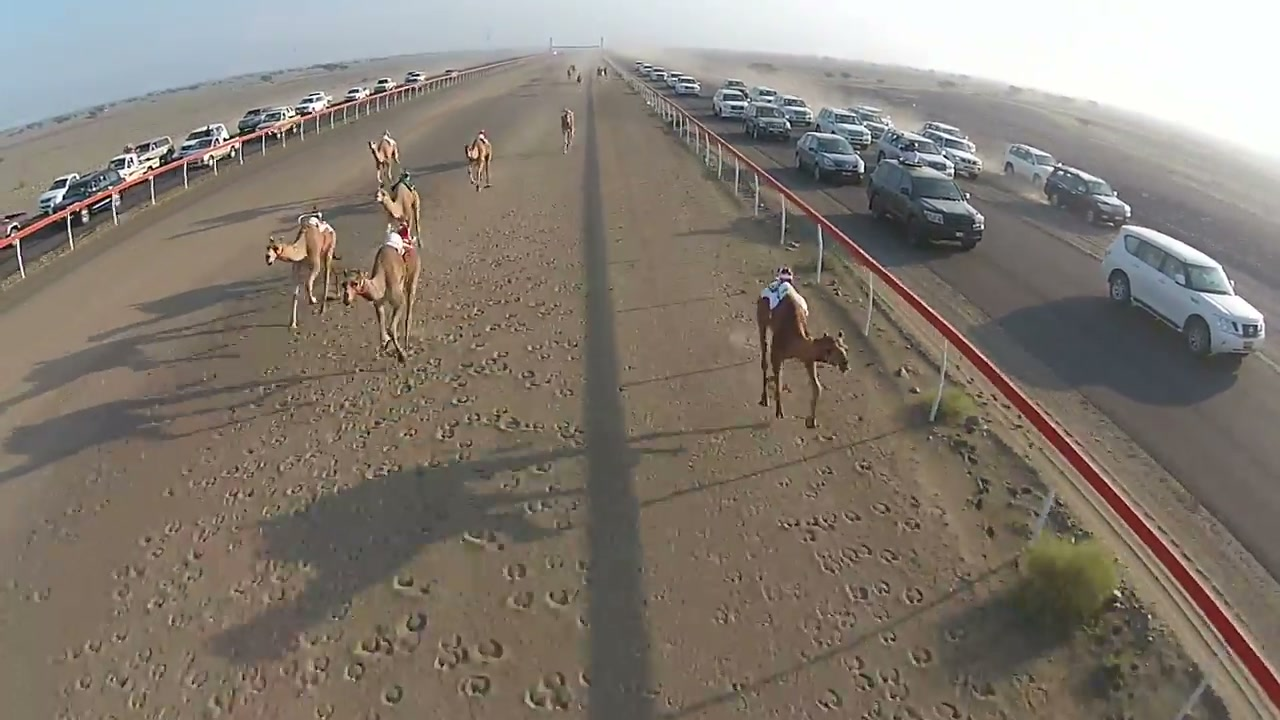animal_foot_print: (166, 214, 607, 719), (50, 625, 265, 719), (778, 511, 901, 575), (435, 635, 506, 670), (800, 606, 856, 649), (780, 511, 841, 543), (468, 407, 545, 432), (524, 672, 573, 710), (813, 549, 857, 576), (133, 649, 168, 682), (435, 636, 470, 669), (296, 654, 331, 687), (352, 629, 393, 657), (879, 668, 910, 703), (455, 325, 496, 350), (552, 498, 583, 531), (205, 687, 236, 717), (1019, 681, 1050, 710), (462, 529, 504, 550), (392, 573, 429, 596), (458, 674, 492, 697), (472, 638, 504, 662), (827, 608, 857, 633), (493, 414, 531, 432), (805, 511, 839, 531), (362, 461, 399, 479), (815, 688, 843, 710), (544, 589, 576, 608), (64, 672, 94, 692), (840, 544, 872, 562), (712, 604, 740, 624), (970, 679, 998, 699), (933, 701, 964, 719), (555, 421, 583, 440), (126, 689, 149, 711), (562, 427, 585, 449), (523, 498, 554, 514), (507, 591, 533, 610), (876, 667, 903, 685), (382, 684, 405, 705), (909, 646, 933, 666), (403, 612, 427, 632), (853, 672, 878, 691), (185, 669, 208, 689), (802, 479, 825, 499), (845, 584, 870, 602), (434, 652, 460, 669), (839, 655, 865, 672), (435, 421, 457, 441), (344, 661, 365, 681), (504, 562, 526, 581), (454, 439, 472, 462), (943, 625, 967, 642), (526, 345, 553, 360), (902, 587, 924, 605), (519, 371, 540, 389), (501, 472, 523, 489), (432, 332, 463, 344), (314, 702, 335, 719), (878, 548, 900, 564), (449, 394, 475, 407), (872, 579, 891, 596), (870, 605, 889, 622), (798, 527, 818, 543), (899, 518, 921, 532), (164, 519, 182, 536), (544, 554, 564, 569), (724, 570, 745, 584), (391, 347, 408, 364), (777, 516, 801, 528), (530, 461, 551, 474), (650, 587, 669, 601), (815, 431, 839, 442), (871, 502, 891, 515), (879, 630, 897, 644), (578, 670, 591, 688), (554, 386, 575, 397), (379, 334, 392, 351), (576, 613, 589, 629), (401, 426, 418, 438), (470, 341, 486, 350), (287, 320, 299, 332), (775, 406, 785, 419), (308, 297, 319, 305), (474, 183, 483, 191), (484, 181, 491, 188)
